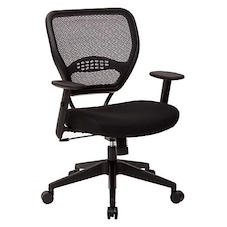chair: (27, 1, 203, 222)
